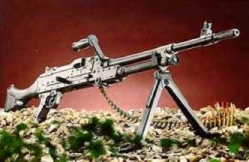rifle: (5, 23, 241, 142)
